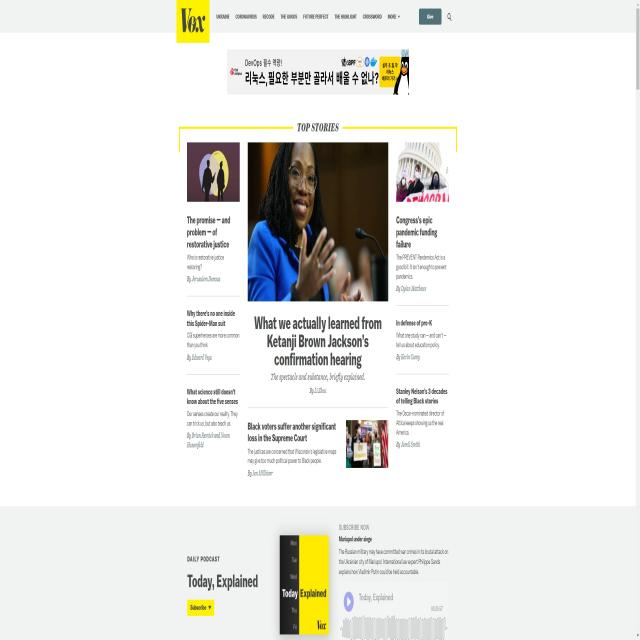menu-bar: (416, 10, 454, 24)
tab-bar: (212, 3, 402, 29)
